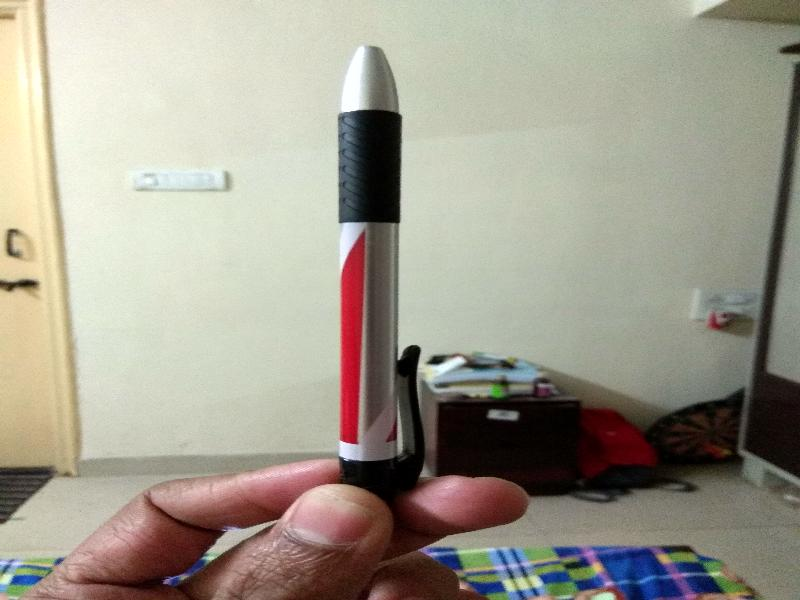pen: (326, 42, 436, 527)
